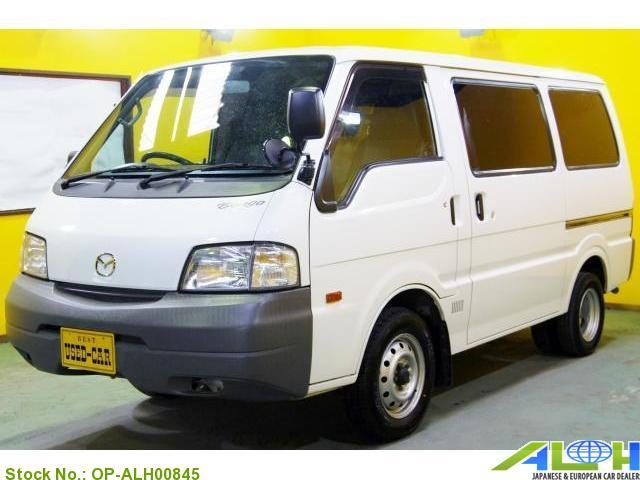Van: (12, 46, 636, 414)
